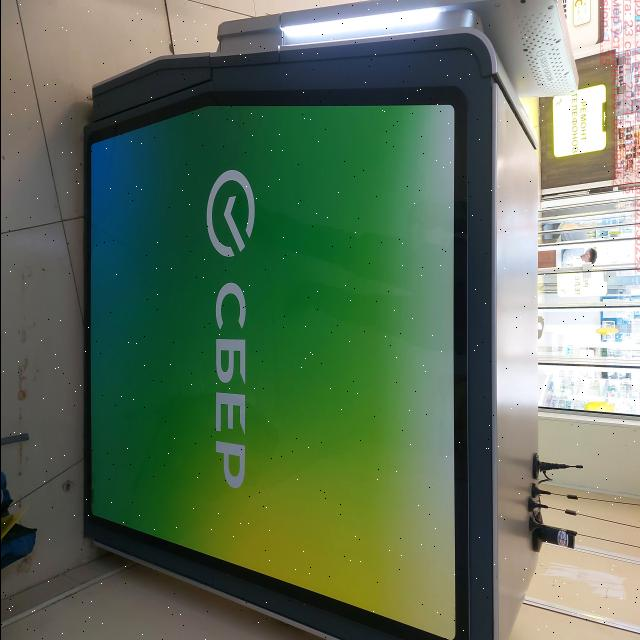bank: (80, 0, 581, 640)
